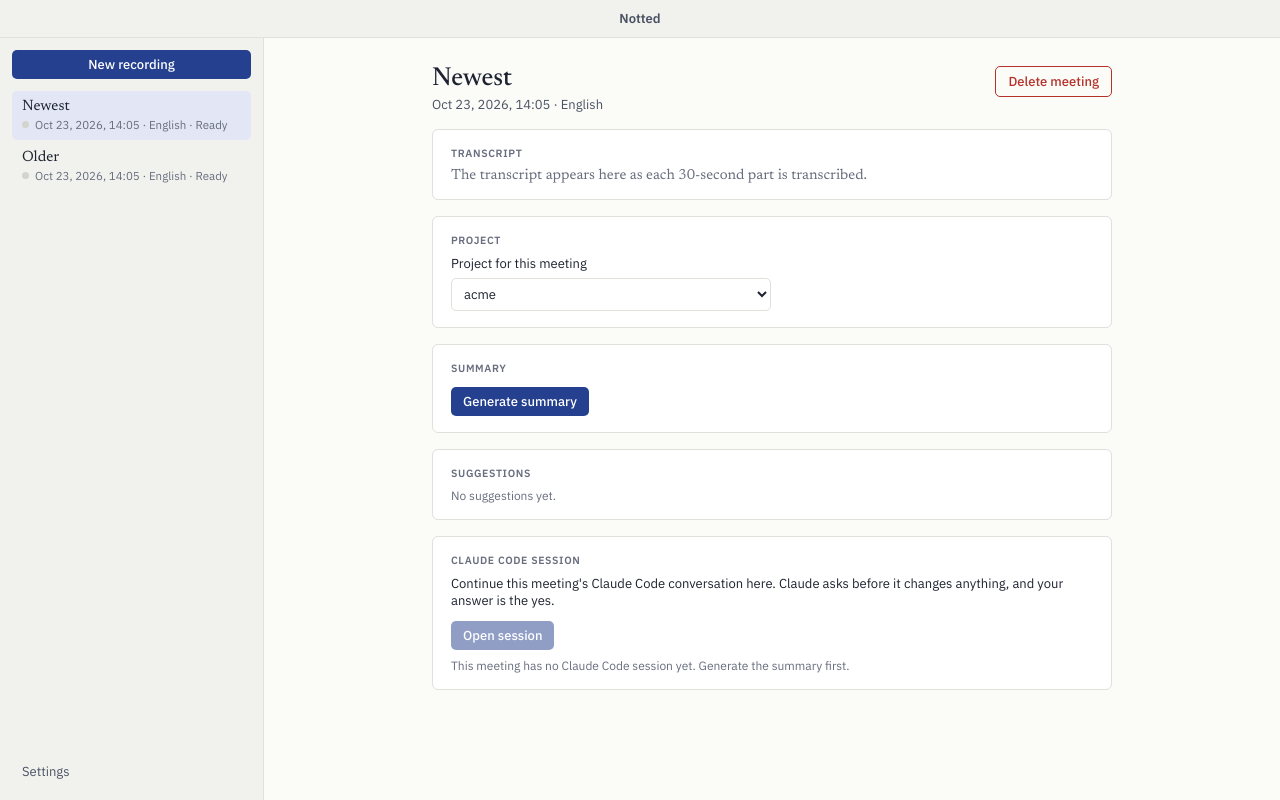
Test: deleting a meeting › goes to the next meeting in the list
expect the heading "Newest" is shown: met, box left=432, top=66, right=512, bottom=92
Click the button "Delete meeting".
click(1054, 82)  # box left=995, top=66, right=1112, bottom=97
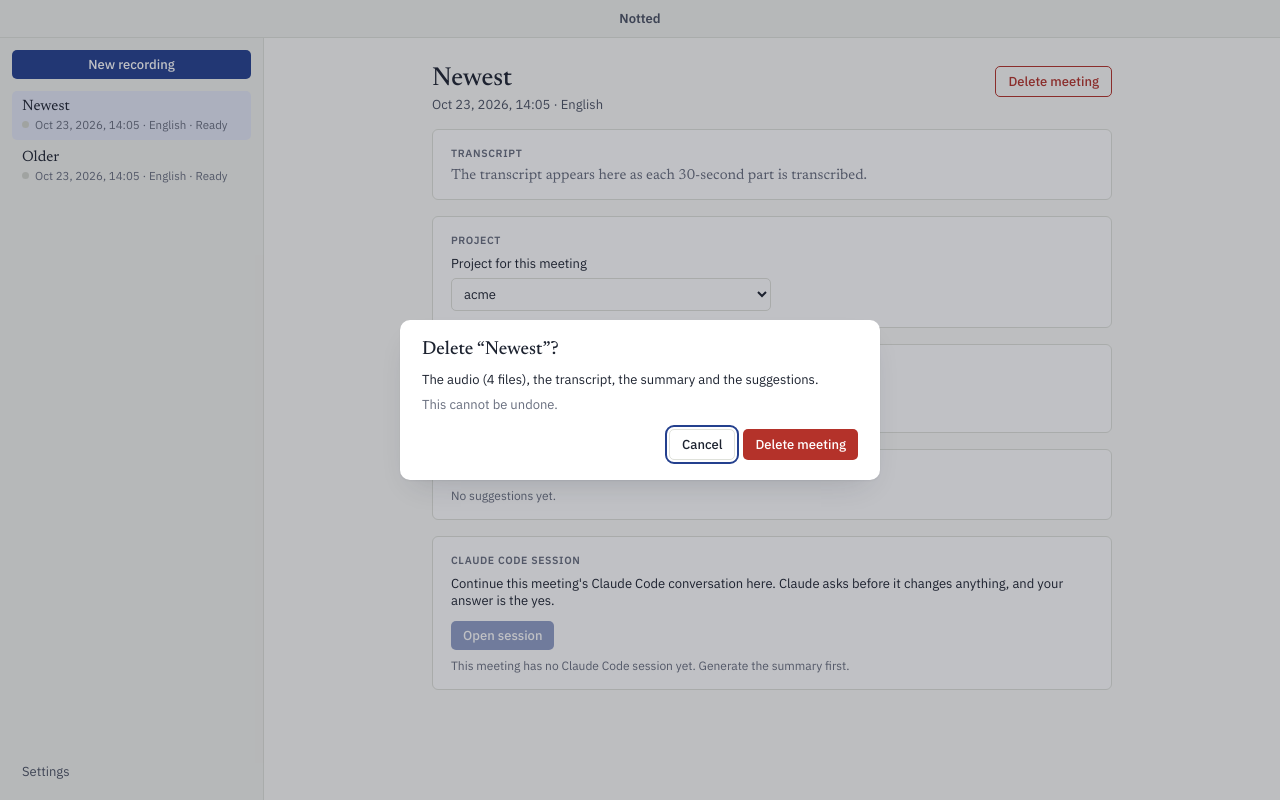
Click the button "Delete meeting".
click(801, 444)  # box left=743, top=429, right=858, bottom=460
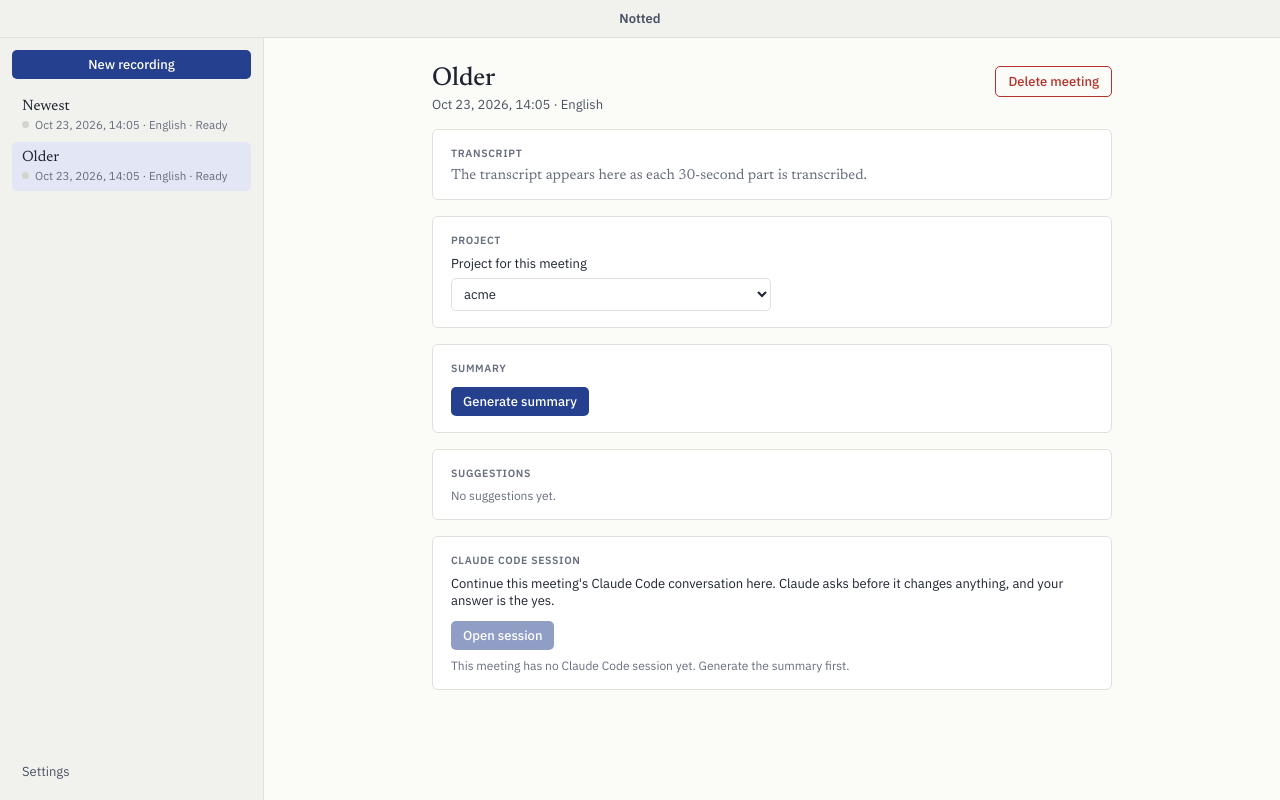
expect the heading "Older" is shown: met, box left=432, top=66, right=495, bottom=92
